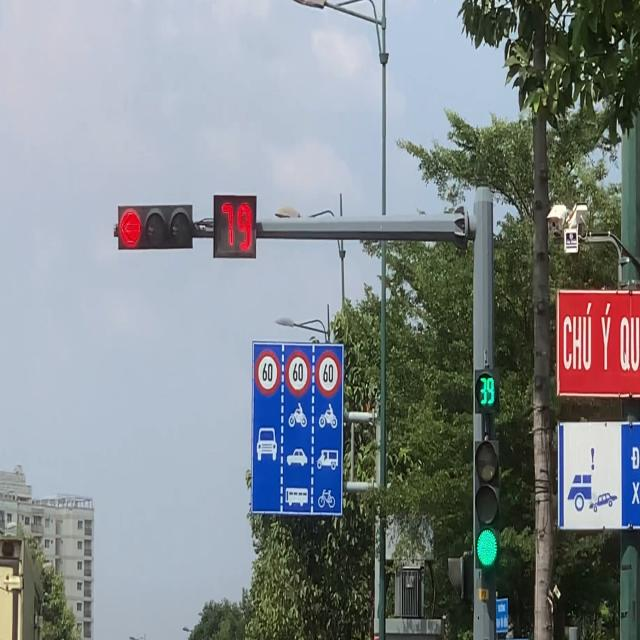Toc do toi da: (315, 350, 342, 398), (254, 349, 281, 396), (286, 350, 311, 395)
